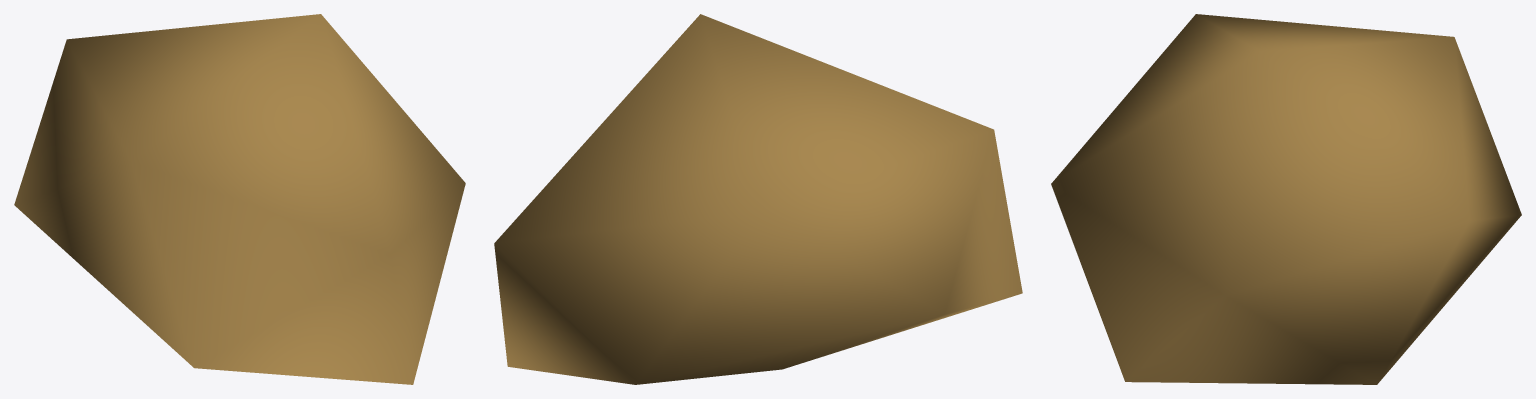
File: Fatbread.glb
3 renders of one model, left to right at view 1: azimuth 30°, elevation 25°; view 2: azimuth 150°, elevation 25°; view 3: azimuth 270°, elevation 25°, orthographic. The views are drawn at different scales.
Visible parts, largest first — view 1: fatbread.001; view 2: fatbread.001; view 3: fatbread.001.
Part boxes in pixels (bbox=[...]): fatbread.001: bbox=[14, 14, 465, 384]; fatbread.001: bbox=[494, 14, 1022, 384]; fatbread.001: bbox=[1051, 14, 1521, 384].
Size of the model in its own units: 1.06 by 0.8513 by 1.14.
